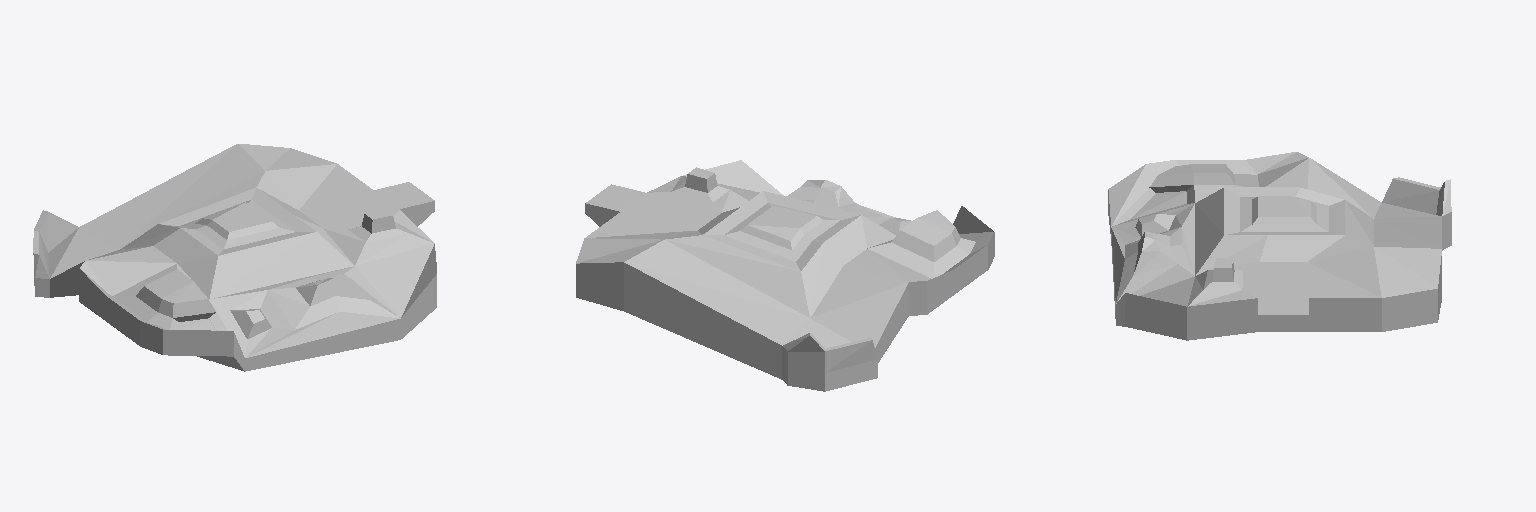
The model's file is World1Base1.obj.
3 views of the same model, side by side, from view 1: azimuth 30°, elevation 25°; view 2: azimuth 150°, elevation 25°; view 3: azimuth 270°, elevation 25° (orthographic).
Parts seen in each view (by area): view 1: World1Base1; view 2: World1Base1; view 3: World1Base1.
Boxes of the visible parts, <box> form: World1Base1: <box>33,144,436,371</box>; World1Base1: <box>576,160,994,391</box>; World1Base1: <box>1108,152,1451,340</box>.
Size of the model in its own units: 33.79 by 7.92 by 29.91.